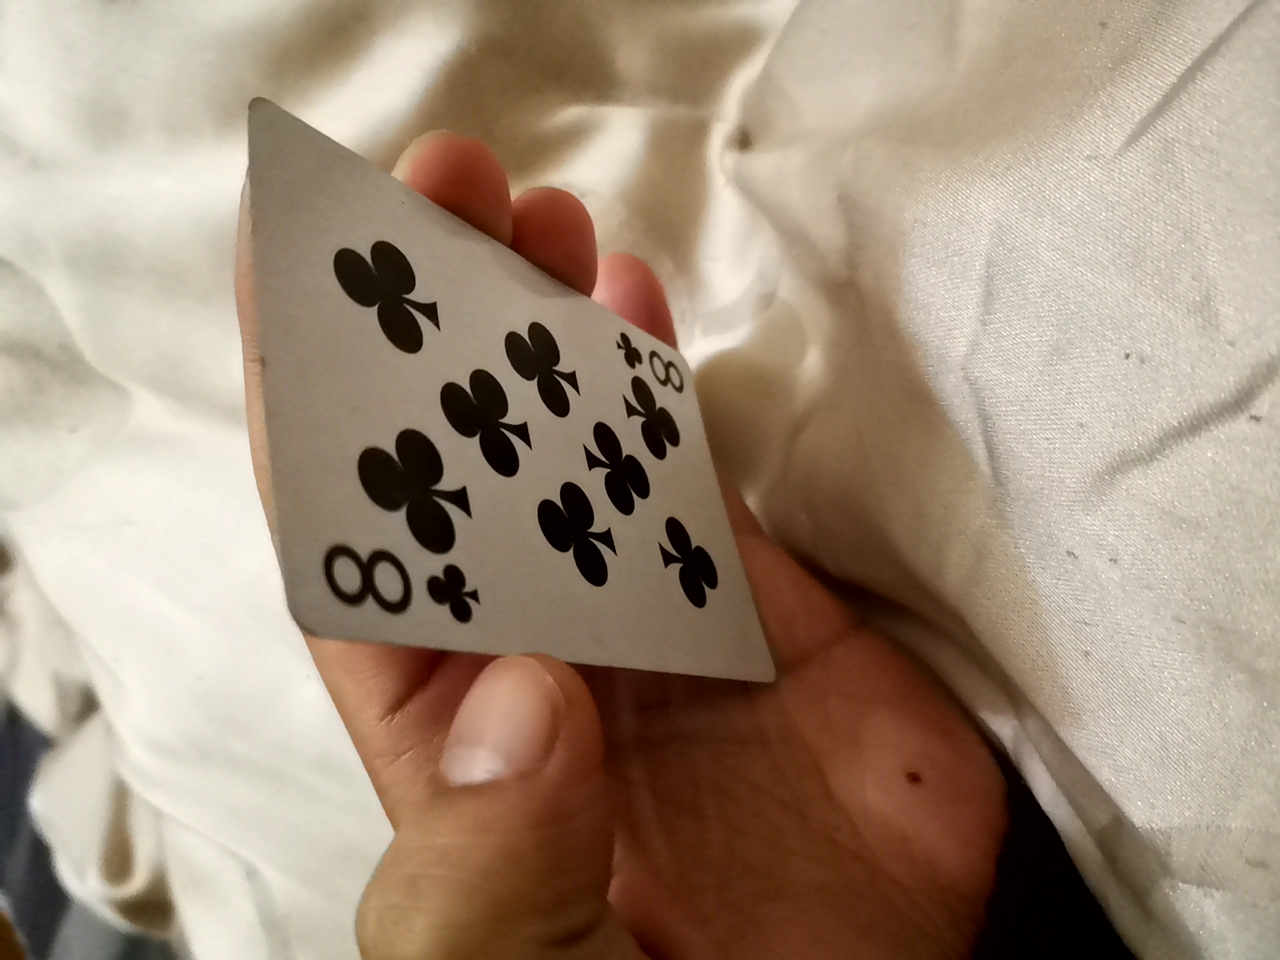mh 8: (233, 99, 753, 702)
